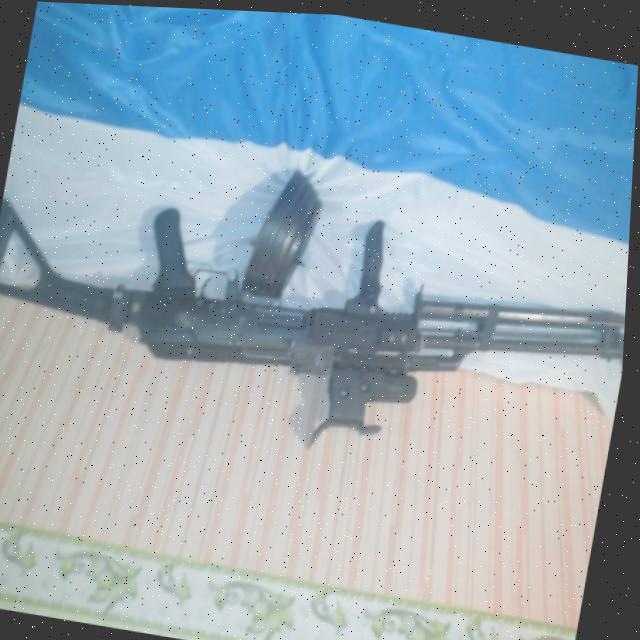firearm: (0, 121, 635, 493)
